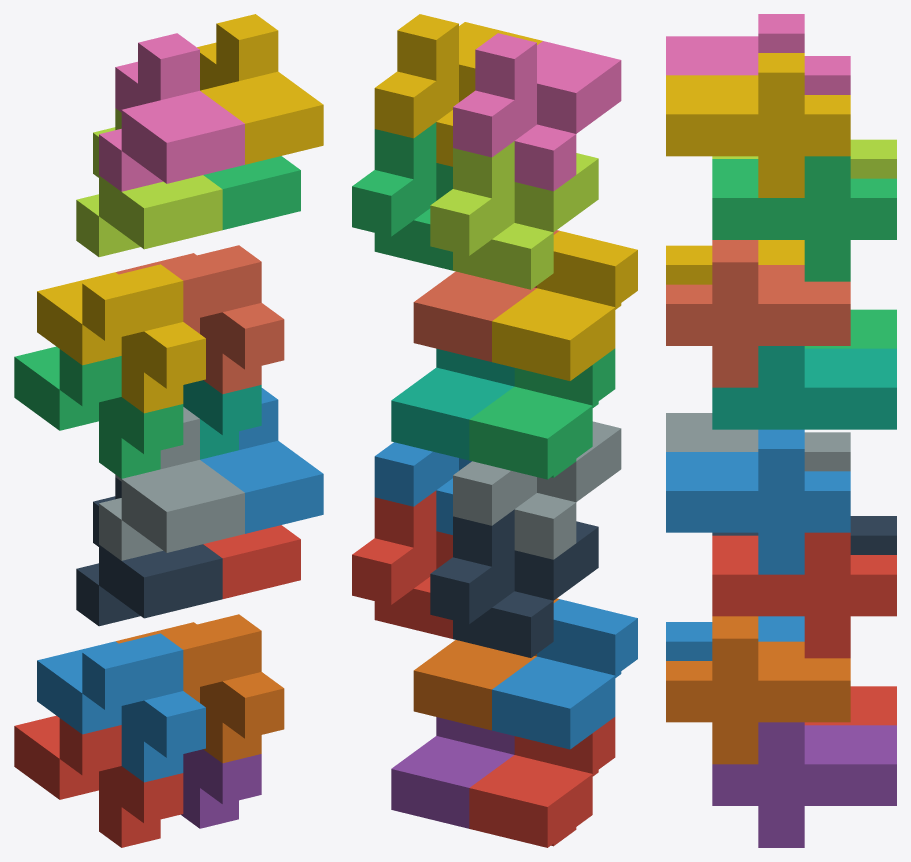
File: tiling.obj
The picture shows the model from 3 angles, left to right: view 1: azimuth 30°, elevation 25°; view 2: azimuth 150°, elevation 25°; view 3: azimuth 270°, elevation 25°; orthographic projection. The views are drawn at different scales.
Visible parts, largest first — view 1: copy_1_domain_2, copy_1_domain_4, copy_2_domain_4, copy_2_domain_2, copy_1_domain_3, copy_1_domain_1, copy_1_domain_8, copy_1_domain_6, copy_2_domain_8, copy_2_domain_3, copy_2_domain_1, copy_2_domain_6 (+4 smaller); view 2: copy_2_domain_4, copy_2_domain_1, copy_2_domain_3, copy_1_domain_2, copy_1_domain_4, copy_1_domain_3, copy_1_domain_1, copy_2_domain_2, copy_2_domain_8, copy_2_domain_5, copy_2_domain_7, copy_1_domain_7 (+4 smaller); view 3: copy_2_domain_8, copy_2_domain_6, copy_1_domain_6, copy_1_domain_8, copy_1_domain_5, copy_2_domain_5, copy_2_domain_7, copy_1_domain_7, copy_2_domain_4, copy_2_domain_2, copy_1_domain_2, copy_1_domain_4 (+4 smaller).
Part boxes in pixels (left/top/right/bottom): copy_1_domain_2: left=37, top=633, right=205, bottom=782; copy_1_domain_4: left=37, top=264, right=205, bottom=413; copy_2_domain_4: left=99, top=33, right=244, bottom=191; copy_2_domain_2: left=99, top=407, right=244, bottom=560; copy_1_domain_3: left=14, top=346, right=183, bottom=478; copy_1_domain_1: left=14, top=715, right=183, bottom=847; copy_1_domain_8: left=116, top=245, right=284, bottom=394; copy_1_domain_6: left=116, top=614, right=284, bottom=763; copy_2_domain_8: left=197, top=14, right=323, bottom=164; copy_2_domain_3: left=76, top=108, right=222, bottom=256; copy_2_domain_1: left=76, top=477, right=222, bottom=626; copy_2_domain_6: left=200, top=388, right=323, bottom=533; copy_2_domain_4: left=453, top=33, right=621, bottom=191; copy_2_domain_1: left=430, top=509, right=598, bottom=657; copy_2_domain_3: left=430, top=141, right=598, bottom=289; copy_1_domain_2: left=492, top=599, right=637, bottom=749; copy_1_domain_4: left=492, top=231, right=637, bottom=380; copy_1_domain_3: left=469, top=348, right=615, bottom=479; copy_1_domain_1: left=469, top=717, right=615, bottom=847; copy_2_domain_2: left=453, top=421, right=621, bottom=559; copy_2_domain_8: left=374, top=14, right=542, bottom=166; copy_2_domain_5: left=352, top=490, right=452, bottom=638; copy_2_domain_7: left=352, top=122, right=452, bottom=270; copy_1_domain_7: left=391, top=348, right=514, bottom=460; copy_2_domain_8: left=666, top=53, right=850, bottom=197; copy_2_domain_6: left=666, top=429, right=850, bottom=574; copy_1_domain_6: left=666, top=616, right=850, bottom=764; copy_1_domain_8: left=666, top=240, right=850, bottom=387; copy_1_domain_5: left=712, top=722, right=896, bottom=847; copy_2_domain_5: left=712, top=532, right=896, bottom=658; copy_2_domain_7: left=712, top=156, right=896, bottom=281; copy_1_domain_7: left=712, top=346, right=896, bottom=429; copy_2_domain_4: left=666, top=14, right=850, bottom=94; copy_2_domain_2: left=666, top=413, right=850, bottom=471; copy_1_domain_2: left=666, top=616, right=804, bottom=660; copy_1_domain_4: left=666, top=240, right=804, bottom=284.
Bounding box in the file's own units: 5 × 19 × 5.
